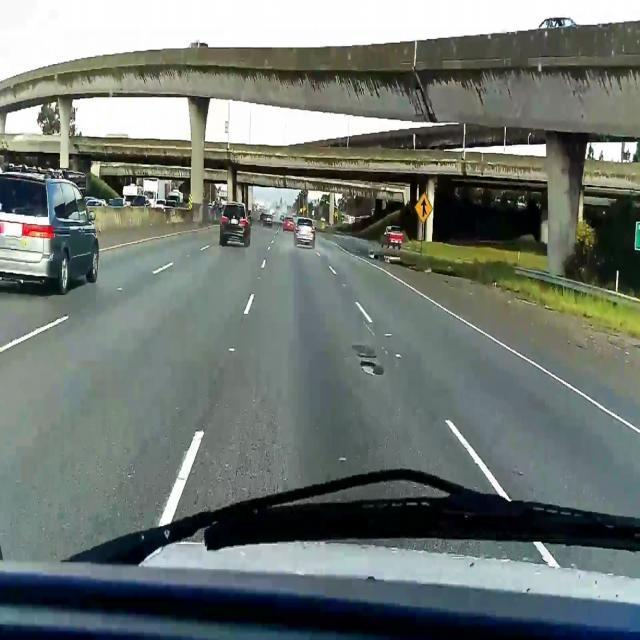Buraco: (357, 359, 386, 378)
